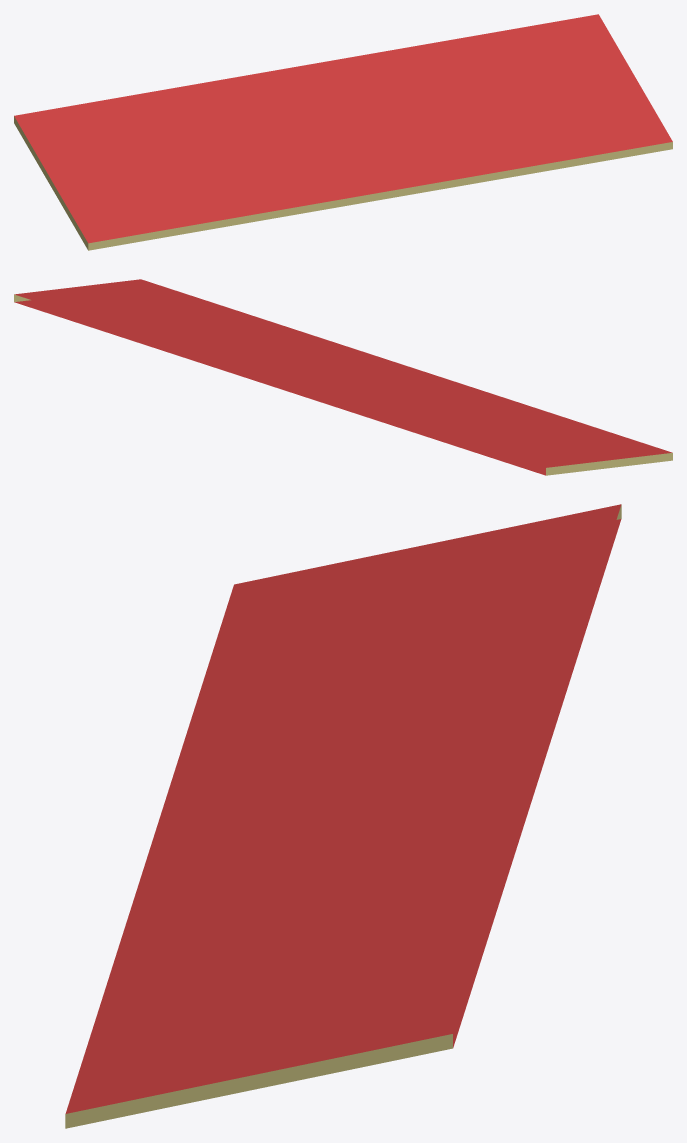
The picture shows the model from 3 angles, top to bottom: view 1: azimuth 30°, elevation 25°; view 2: azimuth 150°, elevation 25°; view 3: azimuth 270°, elevation 25°; orthographic projection. The views are drawn at different scales.
Size of the model in its own units: 8.03 by 3.42 by 0.795.
